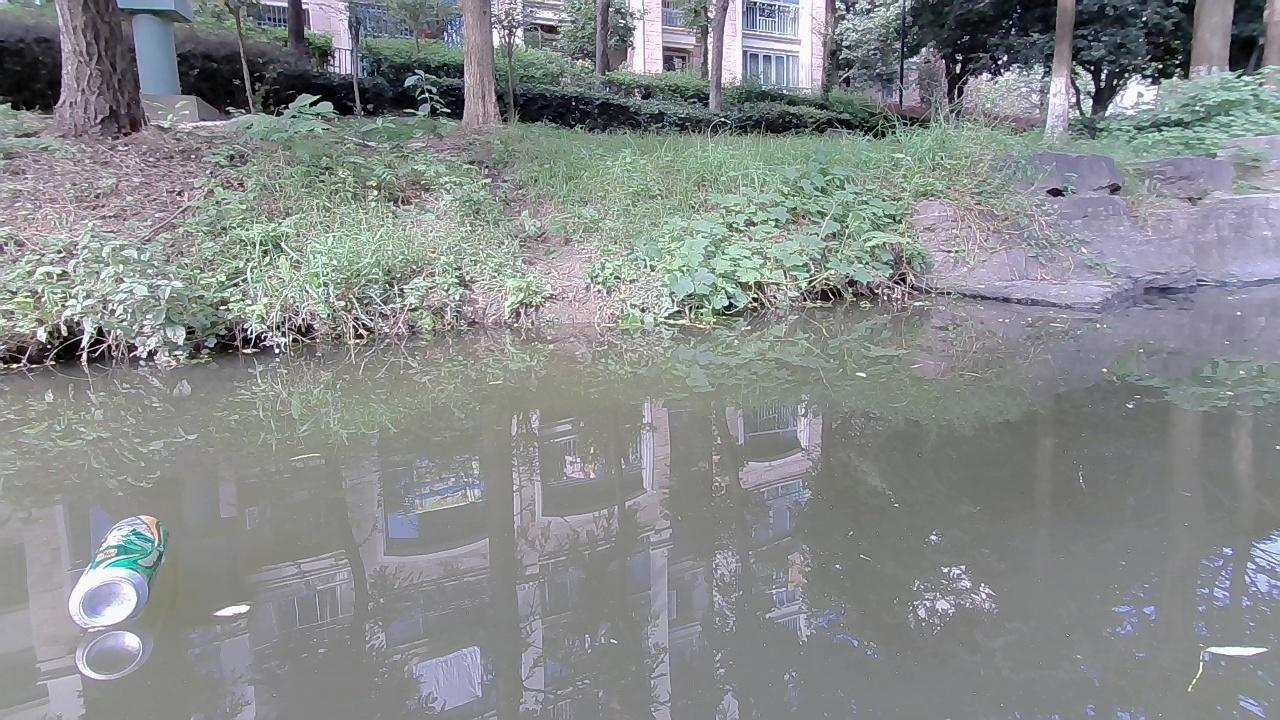Metal: (65, 512, 171, 633)
